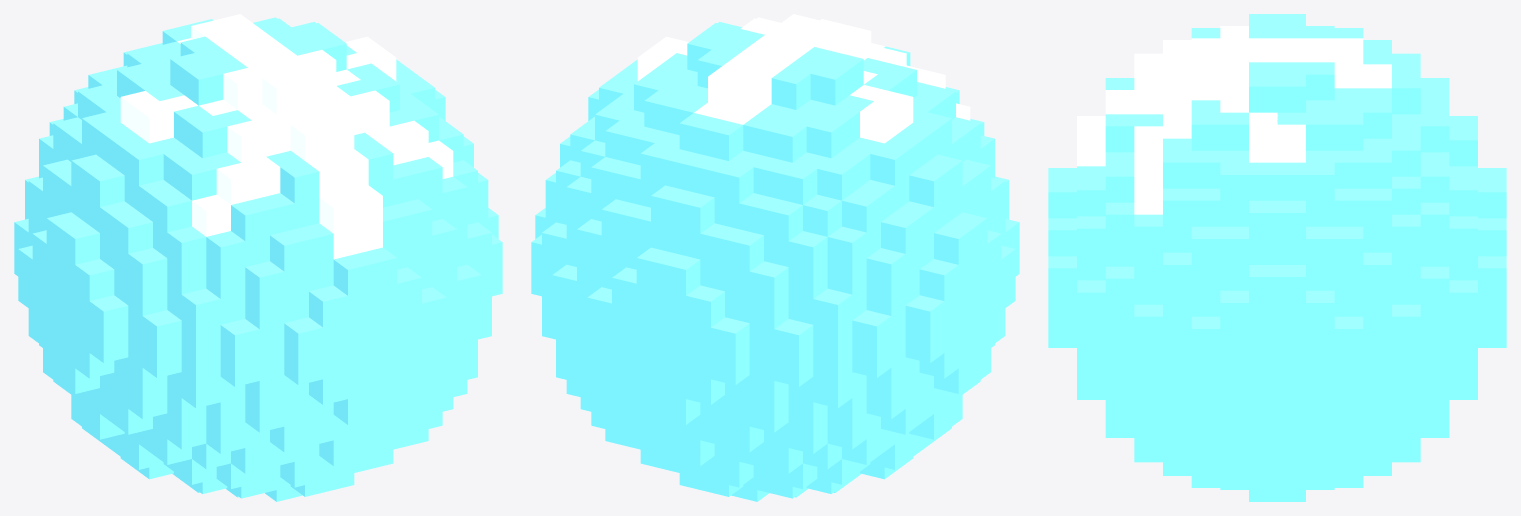
File: item_SUMMON_ELE_FROST.glb
The picture shows the model from 3 angles, left to right: view 1: azimuth 30°, elevation 25°; view 2: azimuth 150°, elevation 25°; view 3: azimuth 270°, elevation 25°; orthographic projection.
Visible parts, largest first — view 1: item_SUMMON_ELE_FROST; view 2: item_SUMMON_ELE_FROST; view 3: item_SUMMON_ELE_FROST.
Part boxes in pixels (x1=…): item_SUMMON_ELE_FROST: x1=14, y1=14, x2=502, y2=501; item_SUMMON_ELE_FROST: x1=531, y1=14, x2=1019, y2=501; item_SUMMON_ELE_FROST: x1=1048, y1=14, x2=1506, y2=501.
Size of the model in its own units: 0.1818 by 0.1818 by 0.1818.
1 material, 1 textured.
